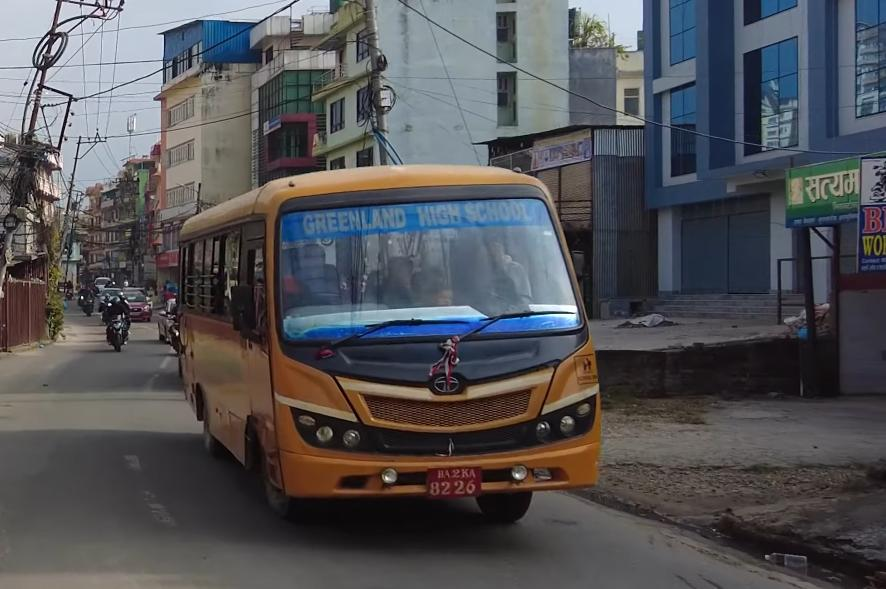school_bus: (170, 160, 612, 532)
